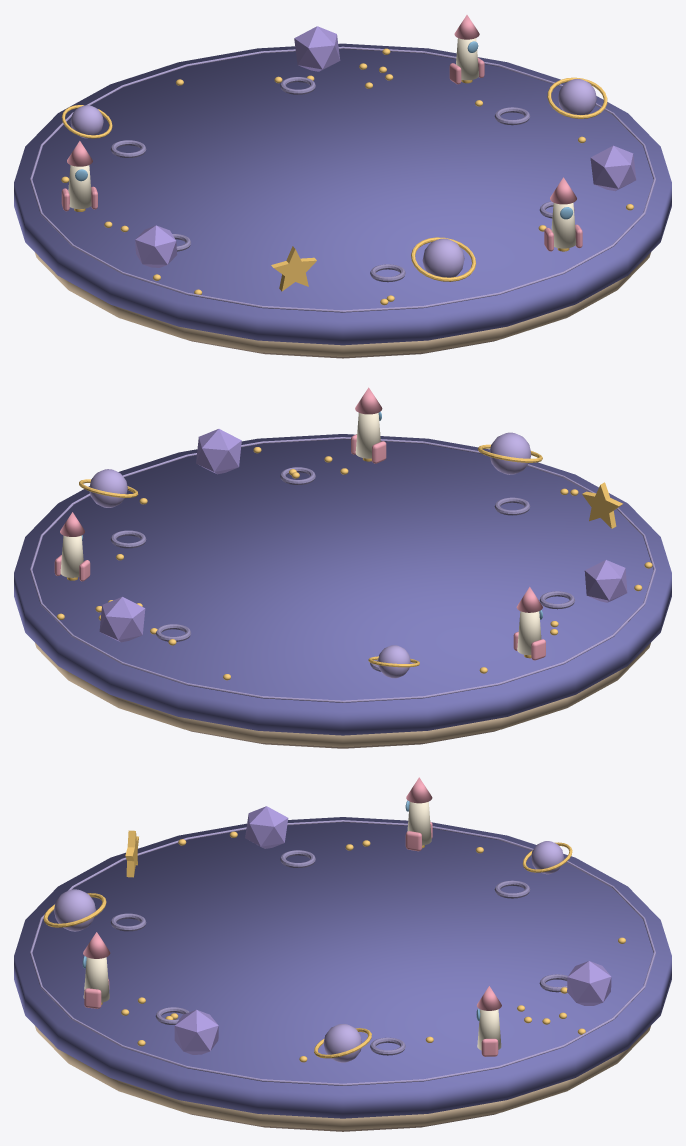
File: world.glb
The picture shows the model from 3 angles, top to bottom: view 1: azimuth 30°, elevation 25°; view 2: azimuth 150°, elevation 25°; view 3: azimuth 270°, elevation 25°; orthographic projection.
Visible parts, largest first — view 1: Cone, Cone.001, Torus.048, planet.003, rocket.003, planet.001, rocket.002, gem.001, gem.003, rocket.001, gem.002, planet.002 (+2 smaller); view 2: Cone, Cone.001, Torus.048, rocket.003, gem.001, rocket.002, gem.003, planet.003, rocket.001, gem.002, planet.001, planet.002 (+2 smaller); view 3: Cone, Cone.001, Torus.048, planet.003, rocket.003, gem.003, gem.001, rocket.002, planet.001, gem.002, rocket.001, planet.002 (+1 smaller).
Part boxes in pixels (<box>): Cone: <box>14,43,671,345</box>; Cone.001: <box>34,252,651,356</box>; Torus.048: <box>30,46,655,312</box>; planet.003: <box>411,237,475,281</box>; rocket.003: <box>544,177,582,251</box>; planet.001: <box>547,77,607,118</box>; rocket.002: <box>61,141,97,211</box>; gem.001: <box>294,26,340,71</box>; gem.003: <box>590,145,636,190</box>; rocket.001: <box>449,15,484,84</box>; gem.002: <box>135,225,177,267</box>; planet.002: <box>61,105,112,138</box>; Cone: <box>14,434,671,735</box>; Cone.001: <box>35,643,650,747</box>; Torus.048: <box>30,437,655,702</box>; rocket.003: <box>351,387,386,463</box>; gem.001: <box>99,596,145,642</box>; rocket.002: <box>513,587,545,660</box>; gem.003: <box>196,429,241,474</box>; planet.003: <box>478,432,542,474</box>; rocket.001: <box>54,512,90,581</box>; gem.002: <box>584,560,627,602</box>; planet.001: <box>79,469,138,507</box>; planet.002: <box>368,645,419,678</box>; Cone: <box>14,817,671,1118</box>; Cone.001: <box>34,1025,651,1130</box>; Torus.048: <box>30,820,655,1085</box>; planet.003: <box>43,889,106,931</box>; rocket.003: <box>82,932,110,1008</box>; gem.003: <box>174,1009,218,1054</box>; gem.001: <box>567,961,611,1005</box>; rocket.002: <box>405,777,432,851</box>; planet.001: <box>314,1024,371,1062</box>; gem.002: <box>245,806,288,848</box>; rocket.001: <box>476,986,501,1056</box>; planet.002: <box>522,841,572,874</box>.
Bounding box in the file's own units: 9.6 × 1.93 × 9.6.
